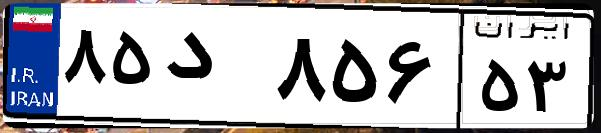3: (525, 38, 570, 115)
5: (330, 28, 385, 110), (475, 38, 525, 113), (110, 28, 158, 98)
6: (385, 28, 445, 110)
8: (270, 28, 330, 110), (57, 26, 110, 100)
د: (158, 20, 270, 120)
